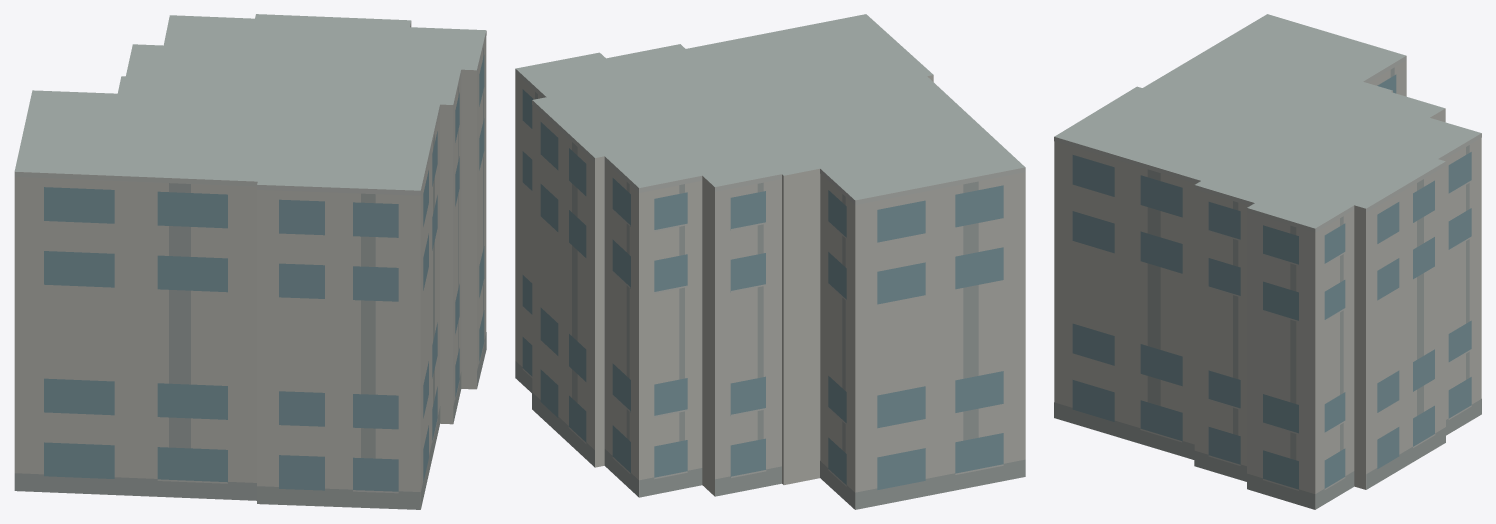
The model's file is survey-upis-32525226.glb.
3 views of the same model, side by side, from view 1: azimuth 30°, elevation 25°; view 2: azimuth 150°, elevation 25°; view 3: azimuth 270°, elevation 25° (orthographic). The views are drawn at different scales.
Parts seen in each view (by area): view 1: survey-upis-32525226.tmp; view 2: survey-upis-32525226.tmp; view 3: survey-upis-32525226.tmp.
Boxes of the visible parts, x1,y1,x2,y2 form: survey-upis-32525226.tmp: [14, 14, 486, 509]; survey-upis-32525226.tmp: [515, 14, 1025, 509]; survey-upis-32525226.tmp: [1054, 14, 1481, 509].
Bounding box in the file's own units: 24.96 × 15.25 × 21.02.
